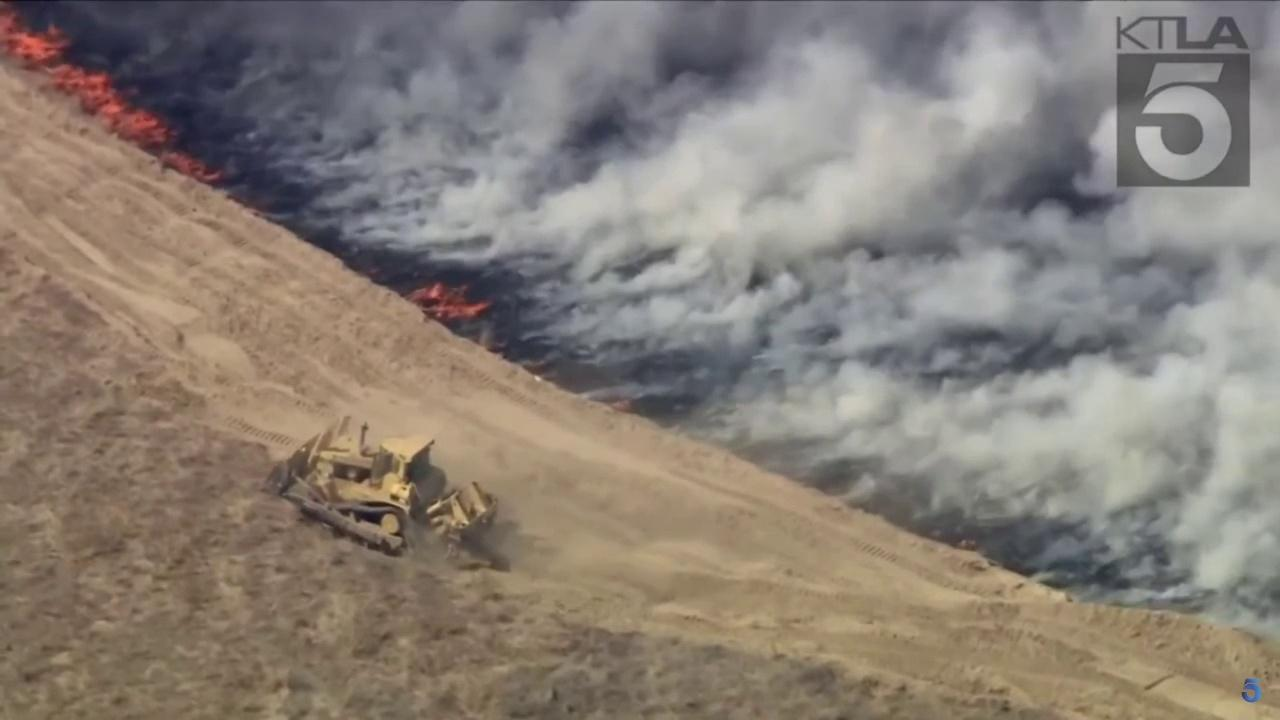fire: (0, 0, 226, 187), (398, 279, 494, 323)
smoke: (0, 0, 1280, 636)
